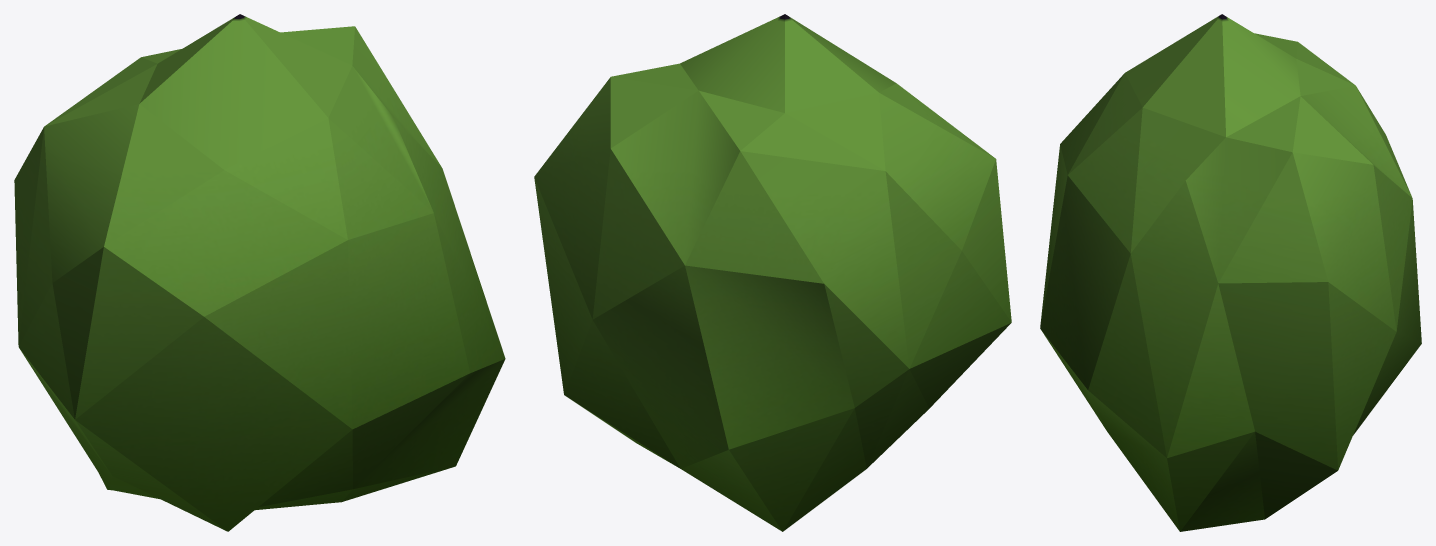
Rendered from Bush.fbx.
The picture shows the model from 3 angles, left to right: view 1: azimuth 30°, elevation 25°; view 2: azimuth 150°, elevation 25°; view 3: azimuth 270°, elevation 25°; orthographic projection. The views are drawn at different scales.
Visible parts, largest first — view 1: Bush; view 2: Bush; view 3: Bush.
Part boxes in pixels (x1,y1,x2,y2): Bush: (14,14,505,531); Bush: (534,14,1011,531); Bush: (1040,14,1421,531).
Size of the model in its own units: 6.36 by 6.98 by 5.27.
